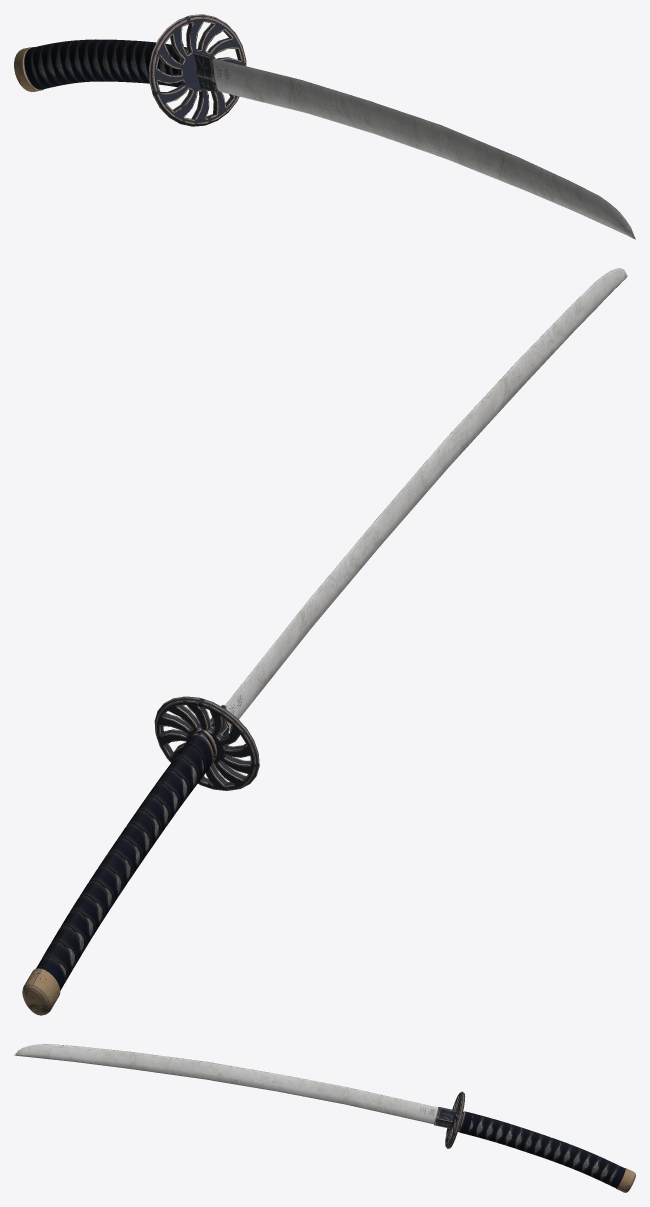
The model's file is katana.glb.
The picture shows the model from 3 angles, top to bottom: view 1: azimuth 30°, elevation 25°; view 2: azimuth 150°, elevation 25°; view 3: azimuth 270°, elevation 25°; orthographic projection. The views are drawn at different scales.
Visible parts, largest first — view 1: Object4_low.002; view 2: Object4_low.002; view 3: Object4_low.002.
Boxes of the visible parts, x1,y1,x2,y2 form: Object4_low.002: [14, 14, 635, 239]; Object4_low.002: [22, 268, 627, 1015]; Object4_low.002: [14, 1044, 635, 1192].
Bounding box in the file's own units: 0.0968 × 0.2759 × 1.01.
1 material, 1 textured.
